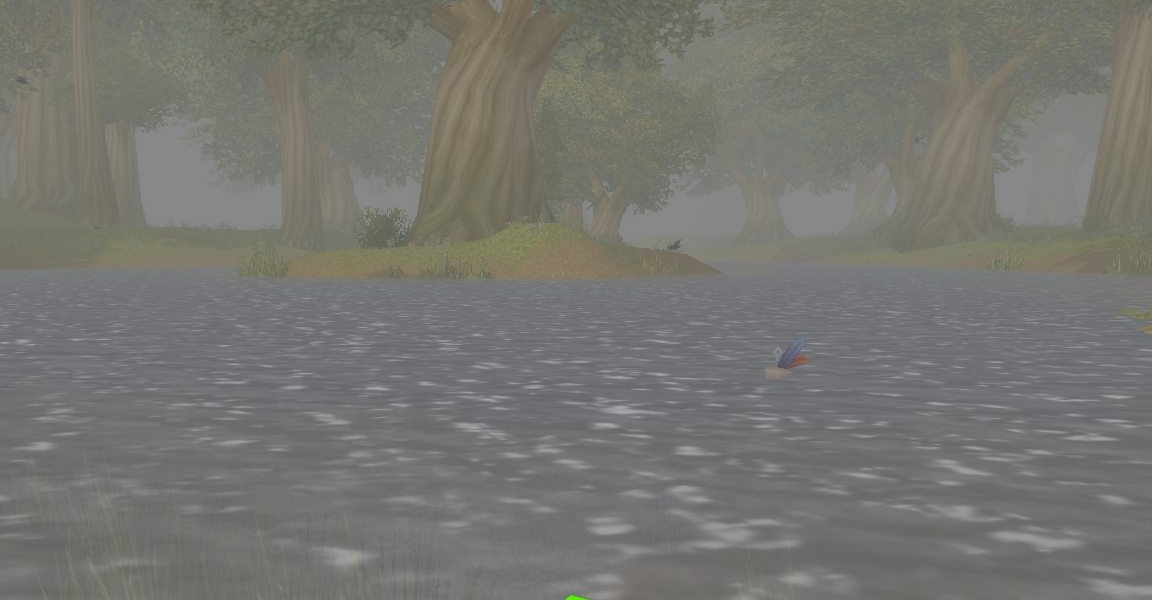Bobber: (761, 337, 815, 381)
